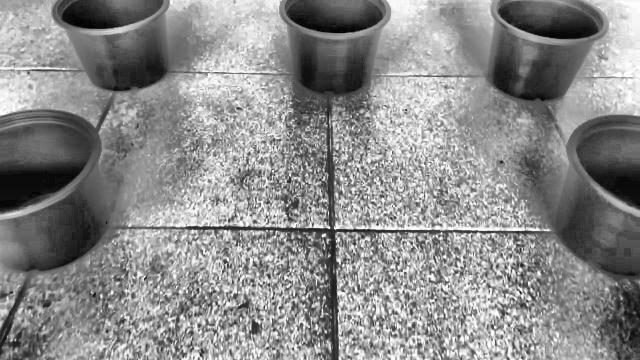pot: (0, 110, 112, 275), (554, 116, 640, 279), (486, 0, 609, 102), (52, 0, 170, 92), (280, 0, 391, 96)
